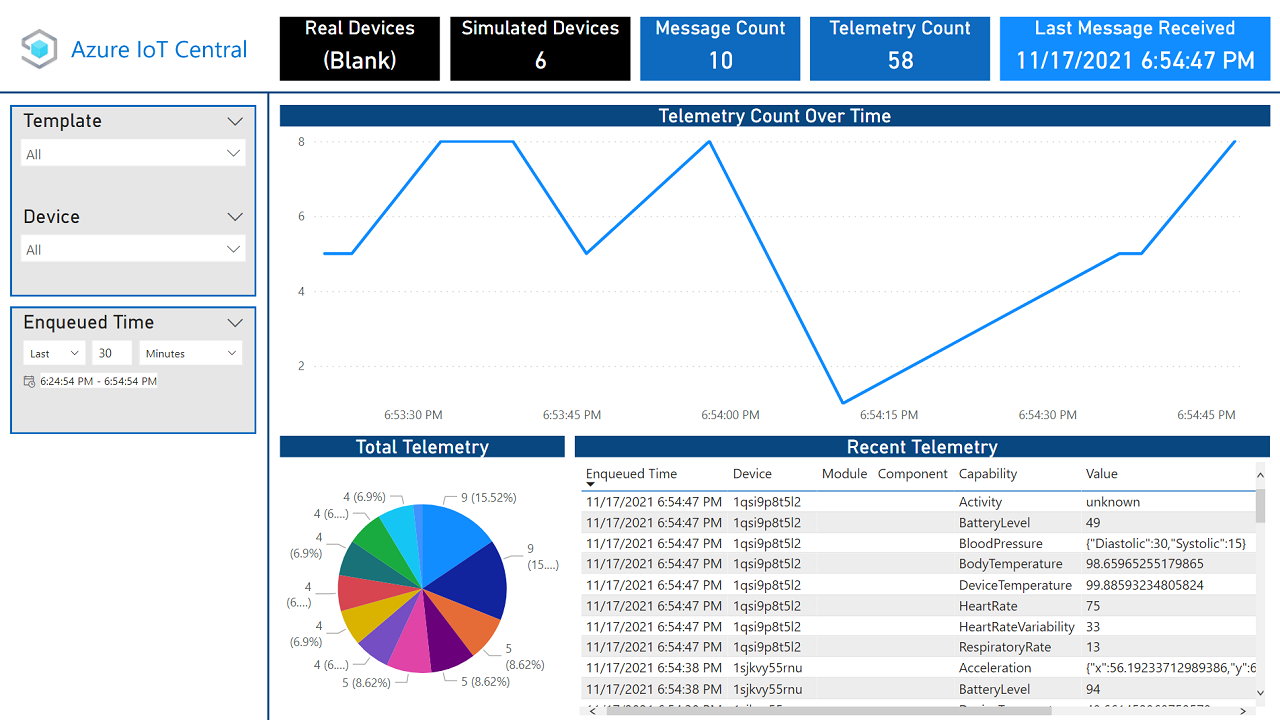

Layout of this report page (visuals, bound fields, positions):
{"tool":"powerbi","page":{"name":"Devices and Telemetry","canvas":[1280,720],"ordinal":0},"visuals":[{"type":"shape","box":[0,80,1280,24],"z":0},{"type":"shape","box":[256,92,24,628],"z":0},{"type":"shape","box":[10,104,246,192],"z":0},{"type":"shape","box":[10,306,246,128],"z":0},{"type":"image","box":[10,16,246,64],"z":1000},{"type":"card","title":"Real Devices","fields":{"Values":["Count(Telemetry.Device)"]},"box":[280,16,160,64],"z":1000},{"type":"card","title":"Simulated Devices","fields":{"Values":["Count(Telemetry.Device)"]},"box":[450,16,180,64],"z":1000},{"type":"card","title":"Message Count","fields":{"Values":["Count(Telemetry.Message)"]},"box":[640,16,160,64],"z":1000},{"type":"card","title":"Telemetry Count","fields":{"Values":["CountNonNull(Telemetry.Capability)"]},"box":[810,16,180,64],"z":1000},{"type":"card","title":"Last Message Received","fields":{"Values":["Max(Telemetry.EnqueuedTime)"]},"box":[1000,16,270,64],"z":1000},{"type":"slicer","fields":{"Values":["Telemetry.Template"]},"box":[10,104,246,96],"z":1000},{"type":"lineChart","title":"Telemetry Count Over Time","fields":{"Category":["Telemetry.EnqueuedTime"],"Y":["CountNonNull(Telemetry.Capability)"]},"box":[280,104,990,330],"z":1000},{"type":"slicer","fields":{"Values":["Telemetry.Device"]},"box":[10,200,246,96],"z":1000},{"type":"slicer","fields":{"Values":["Telemetry.Enqueued Time"]},"box":[10,306,246,128],"z":1000},{"type":"pieChart","title":"Total Telemetry","fields":{"Category":["Telemetry.Capability"],"Y":["CountNonNull(Telemetry.Capability)"]},"box":[280,435,285,285],"z":1000},{"type":"tableEx","title":"Recent Telemetry","fields":{"Values":["Telemetry.EnqueuedTime","Telemetry.Device","Telemetry.Module","Telemetry.Component","Telemetry.Capability","Telemetry.Value"]},"box":[575,435,695,285],"z":1000}]}

Visuals, with their boxes in screenshot pixels (x1, y1, x2, y2), scaled from the page's 1280x720 canvas onto the 1280x720 screenshot:
shape: x1=0, y1=80, x2=1279, y2=104
shape: x1=256, y1=92, x2=280, y2=719
shape: x1=10, y1=104, x2=256, y2=296
shape: x1=10, y1=306, x2=256, y2=434
image: x1=10, y1=16, x2=256, y2=80
"Real Devices" card: x1=280, y1=16, x2=440, y2=80
"Simulated Devices" card: x1=450, y1=16, x2=630, y2=80
"Message Count" card: x1=640, y1=16, x2=800, y2=80
"Telemetry Count" card: x1=810, y1=16, x2=990, y2=80
"Last Message Received" card: x1=1000, y1=16, x2=1270, y2=80
slicer - Telemetry.Template: x1=10, y1=104, x2=256, y2=200
"Telemetry Count Over Time" lineChart: x1=280, y1=104, x2=1270, y2=434
slicer - Telemetry.Device: x1=10, y1=200, x2=256, y2=296
slicer - Telemetry.Enqueued Time: x1=10, y1=306, x2=256, y2=434
"Total Telemetry" pieChart: x1=280, y1=435, x2=565, y2=719
"Recent Telemetry" tableEx: x1=575, y1=435, x2=1270, y2=719
